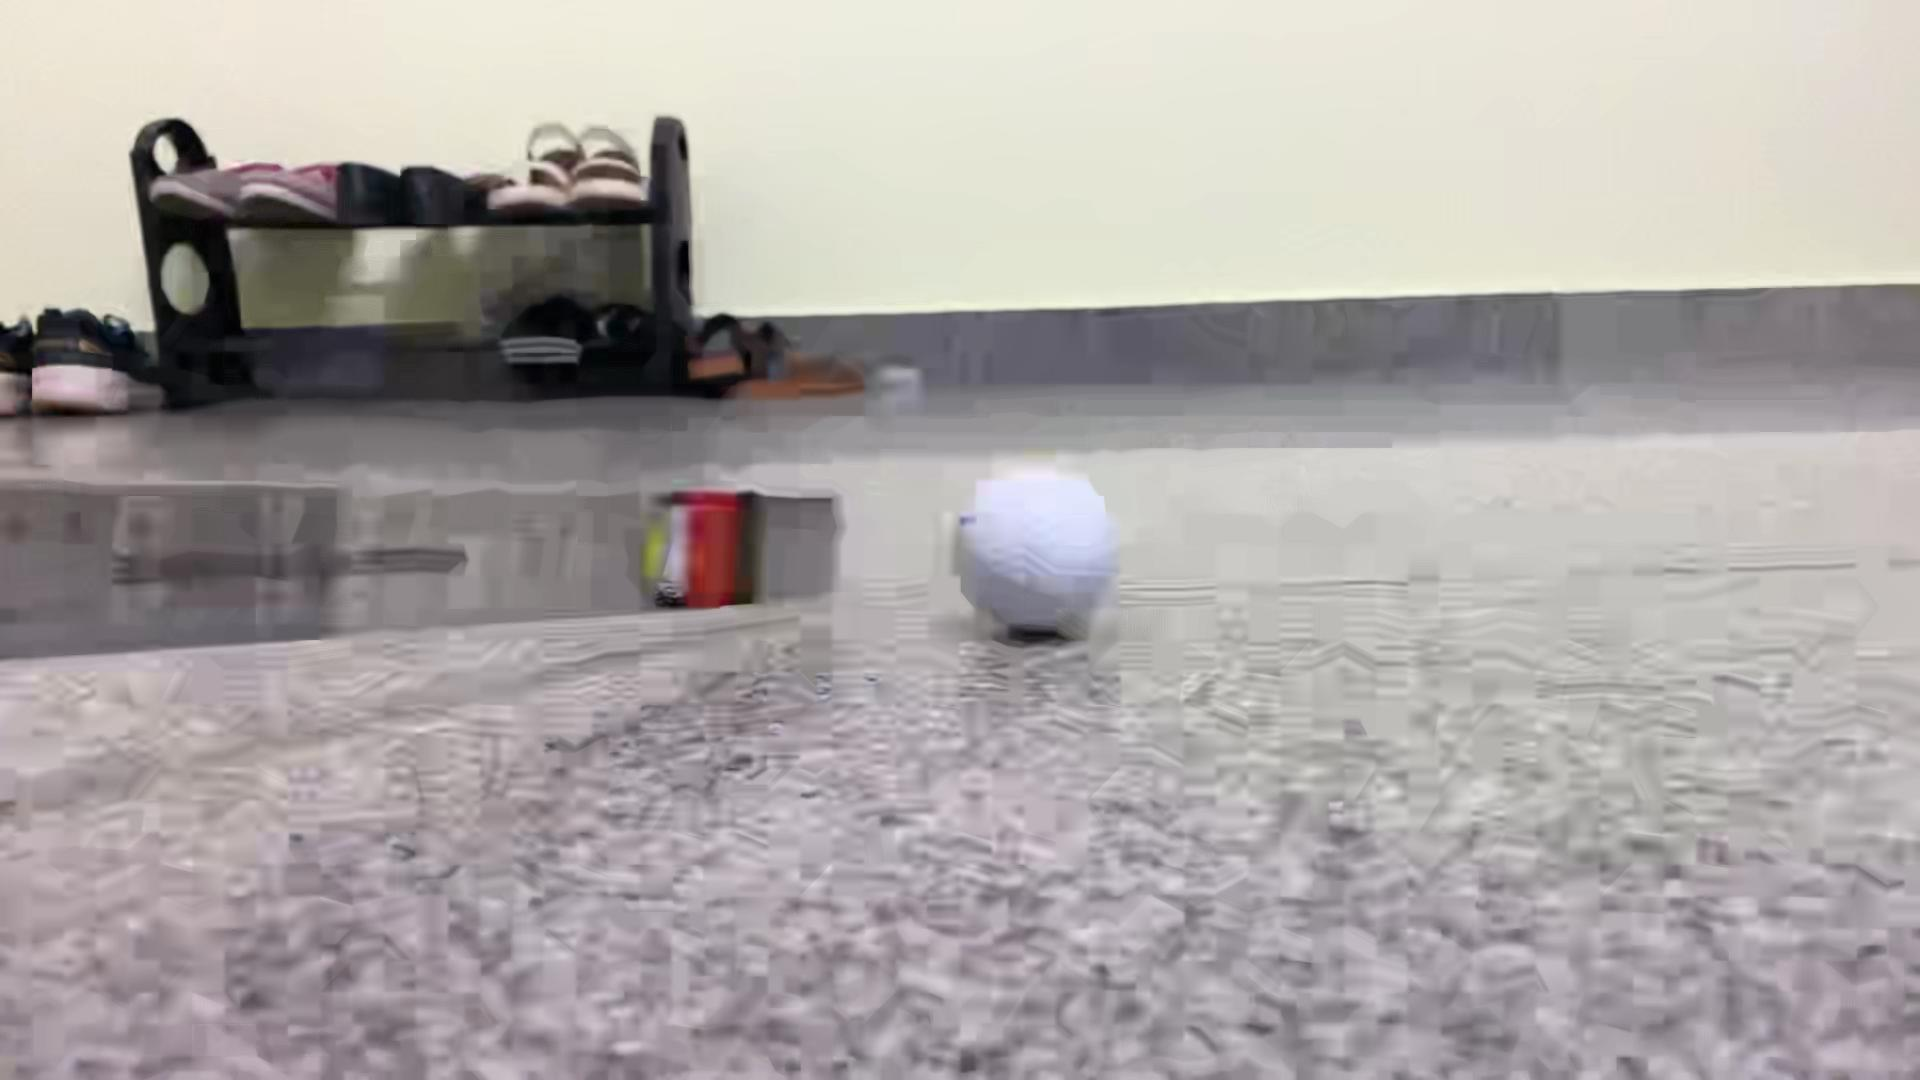golfball: (951, 465, 1119, 634)
